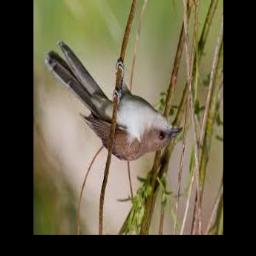Cuckoo: (44, 40, 183, 161)
